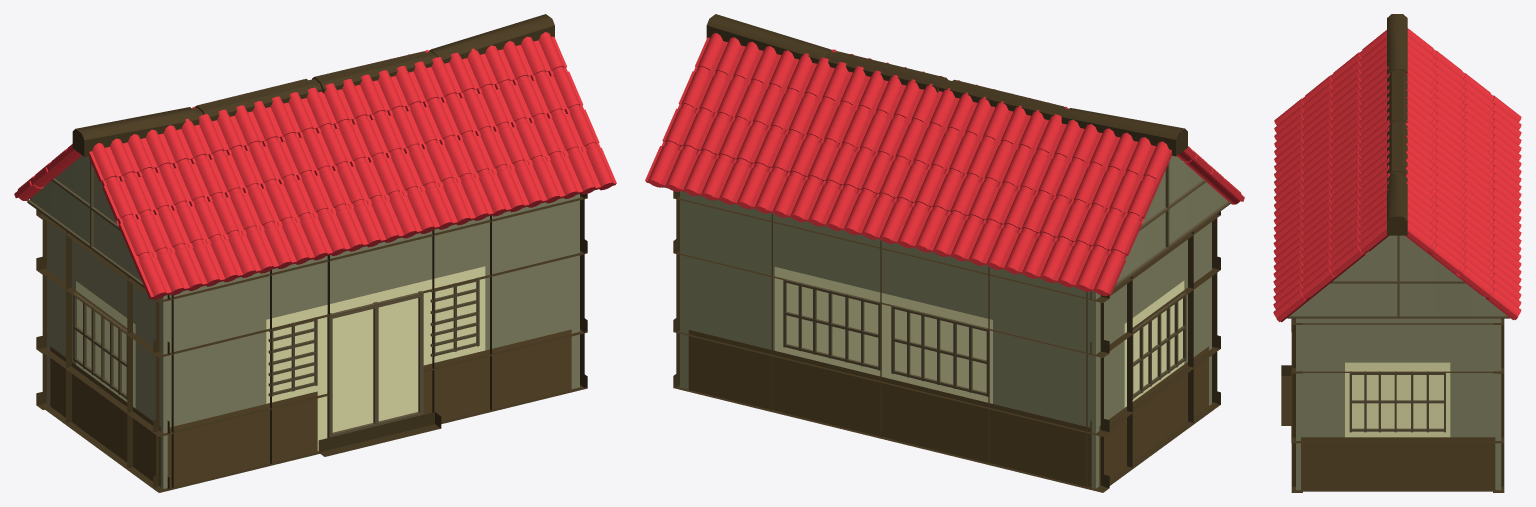
The model's file is japanese house recht 8.fbx.
3 renders of one model, left to right at view 1: azimuth 30°, elevation 25°; view 2: azimuth 150°, elevation 25°; view 3: azimuth 270°, elevation 25°, orthographic. The views are drawn at different scales.
Visible parts, largest first — view 1: Circle.001, Circle, Cube.005; view 2: Circle.001, Cube.005, Circle; view 3: Circle.001, Circle, Cube.005.
Boxes of the visible parts, <box> form: Circle.001: <box>14,50,587,492</box>; Circle: <box>88,32,616,299</box>; Cube.005: <box>72,14,554,156</box>; Circle.001: <box>645,33,1231,492</box>; Cube.005: <box>706,14,1187,156</box>; Circle: <box>831,49,1244,204</box>; Circle.001: <box>1281,28,1521,492</box>; Circle: <box>1273,30,1390,322</box>; Cube.005: <box>1387,14,1407,235</box>.
Size of the model in its own units: 1201 by 788 by 622.
